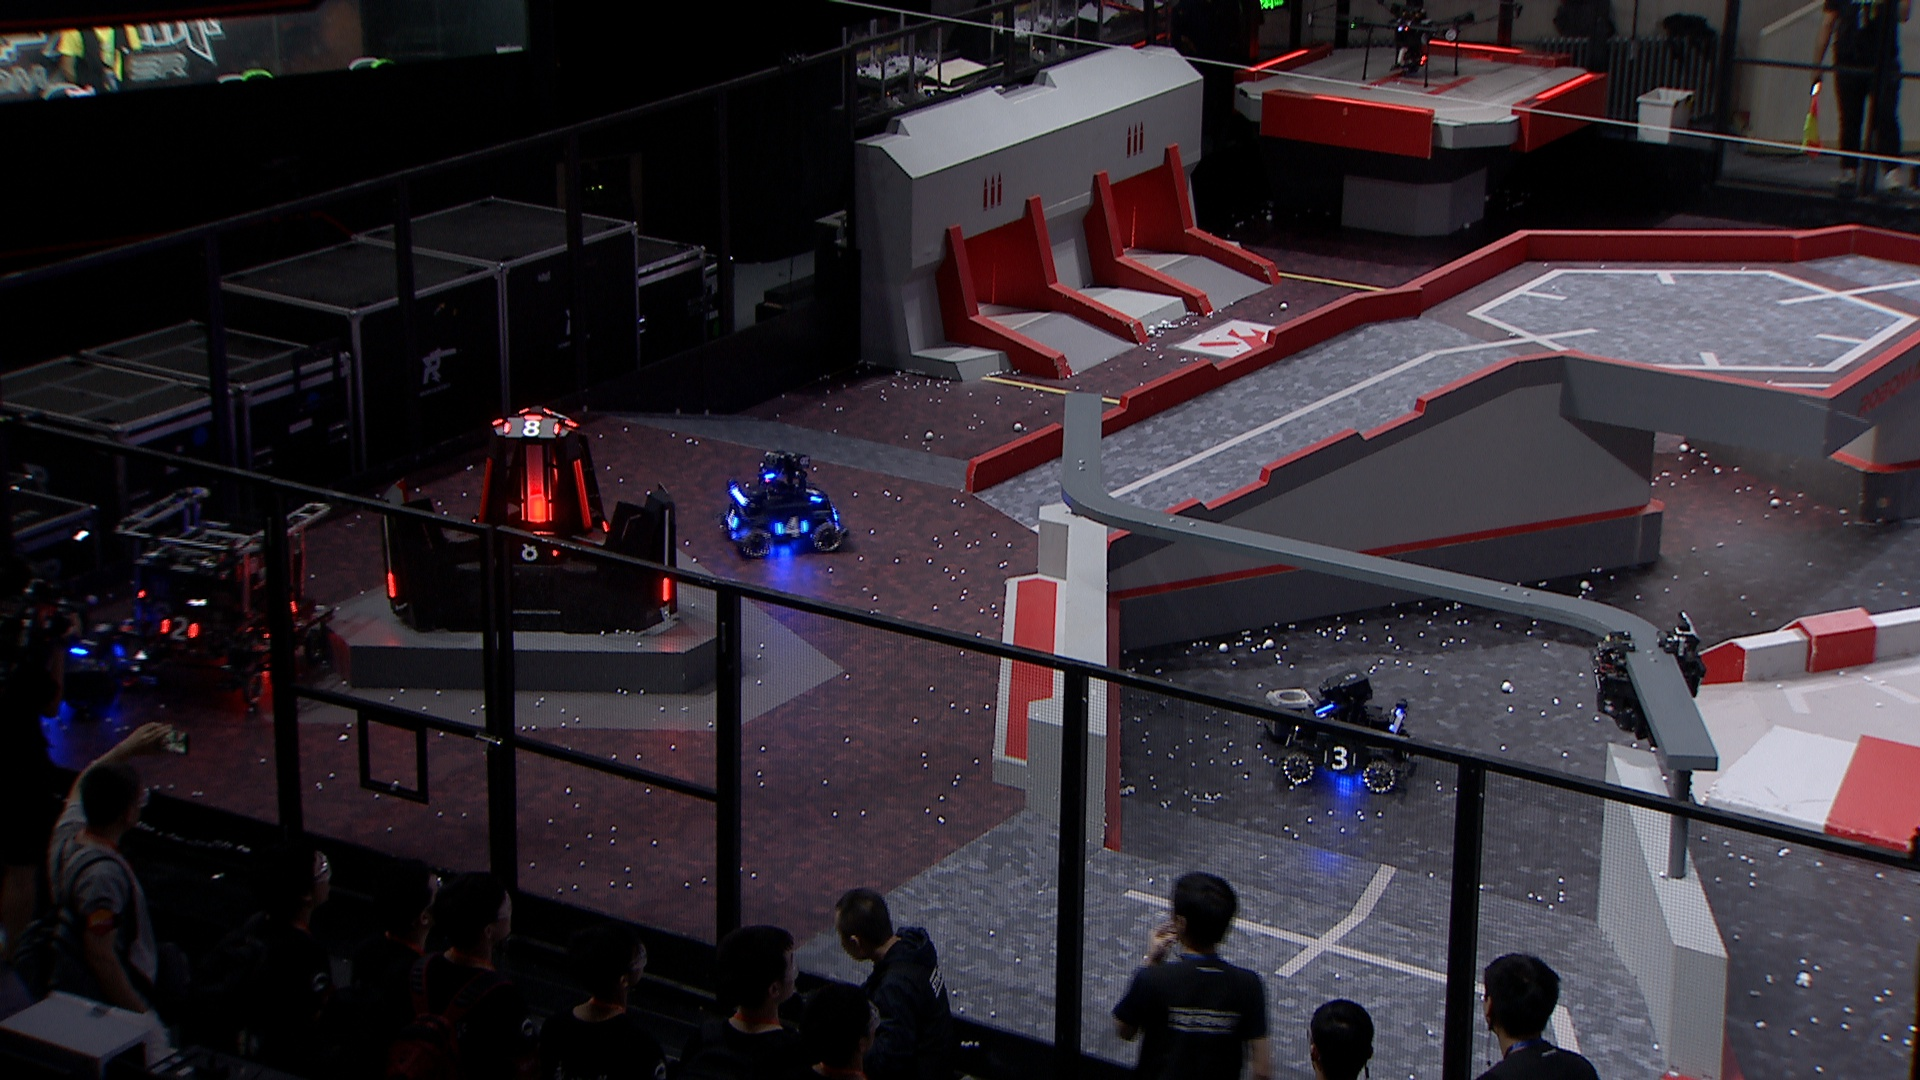armor: (520, 446, 556, 527), (502, 531, 564, 566), (570, 456, 597, 531), (472, 454, 496, 529), (65, 622, 105, 661), (156, 612, 200, 645), (498, 417, 564, 436), (1319, 744, 1360, 771), (774, 516, 808, 541), (382, 570, 400, 603), (721, 508, 744, 531), (802, 484, 825, 504), (657, 575, 673, 604)
base: (380, 407, 680, 637)
car: (105, 481, 339, 705), (1276, 666, 1422, 794), (717, 446, 851, 556)
watcher: (1585, 599, 1709, 746)
